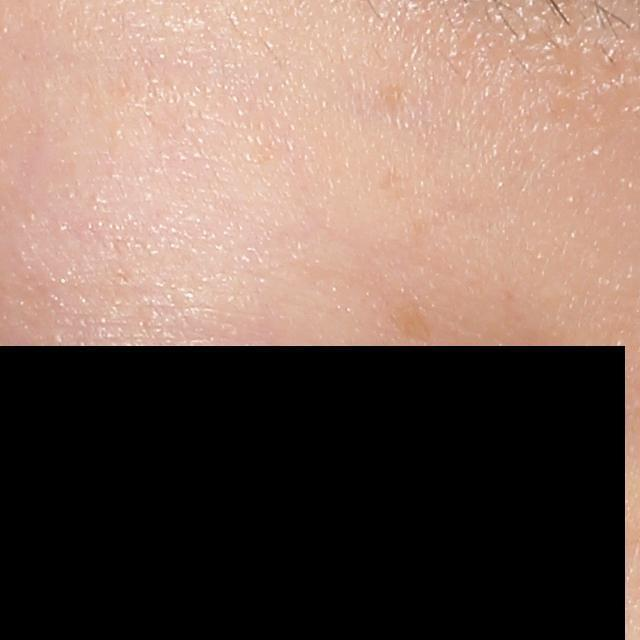melasma: (387, 287, 440, 346)
